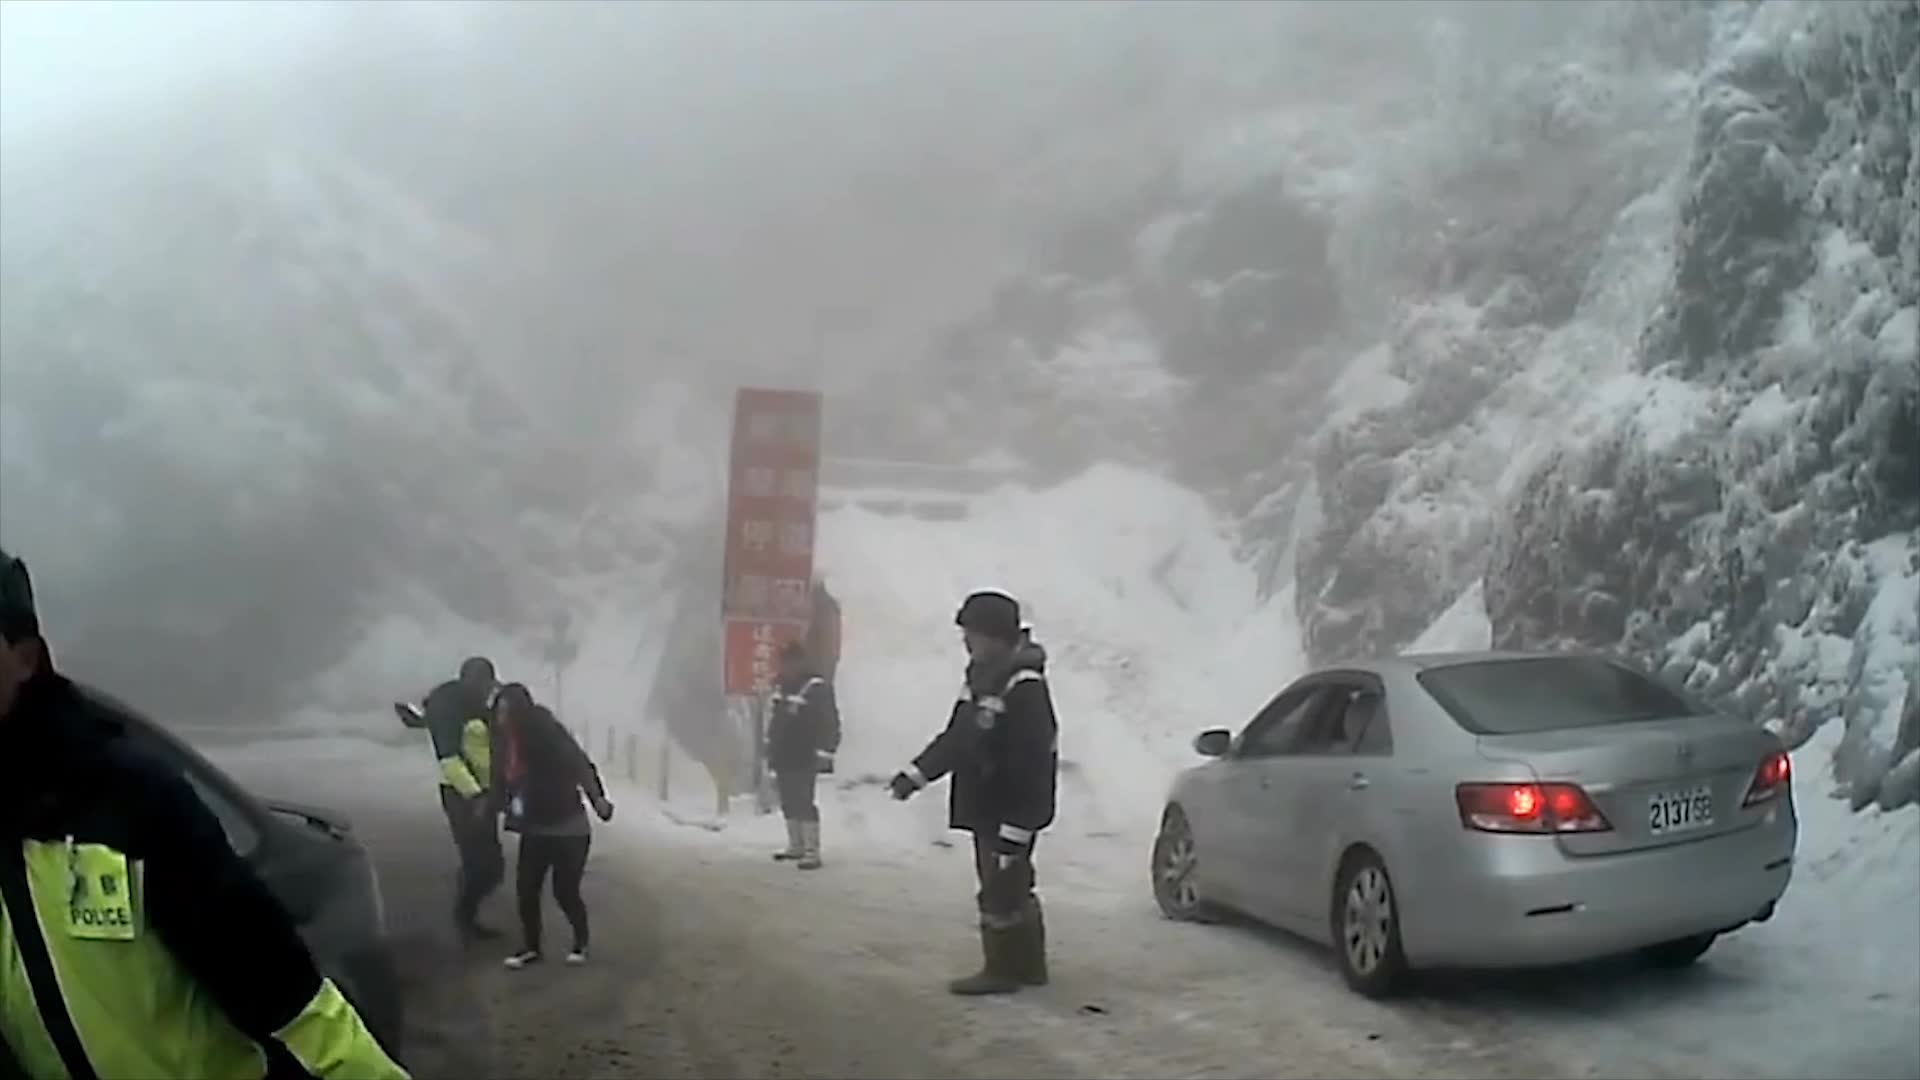pedestrian: (1, 549, 415, 1080), (894, 586, 1063, 1000), (480, 680, 617, 968), (418, 658, 536, 939), (764, 635, 841, 873), (783, 564, 845, 744)
vehicle: (1145, 649, 1798, 1000), (0, 664, 400, 1079)
